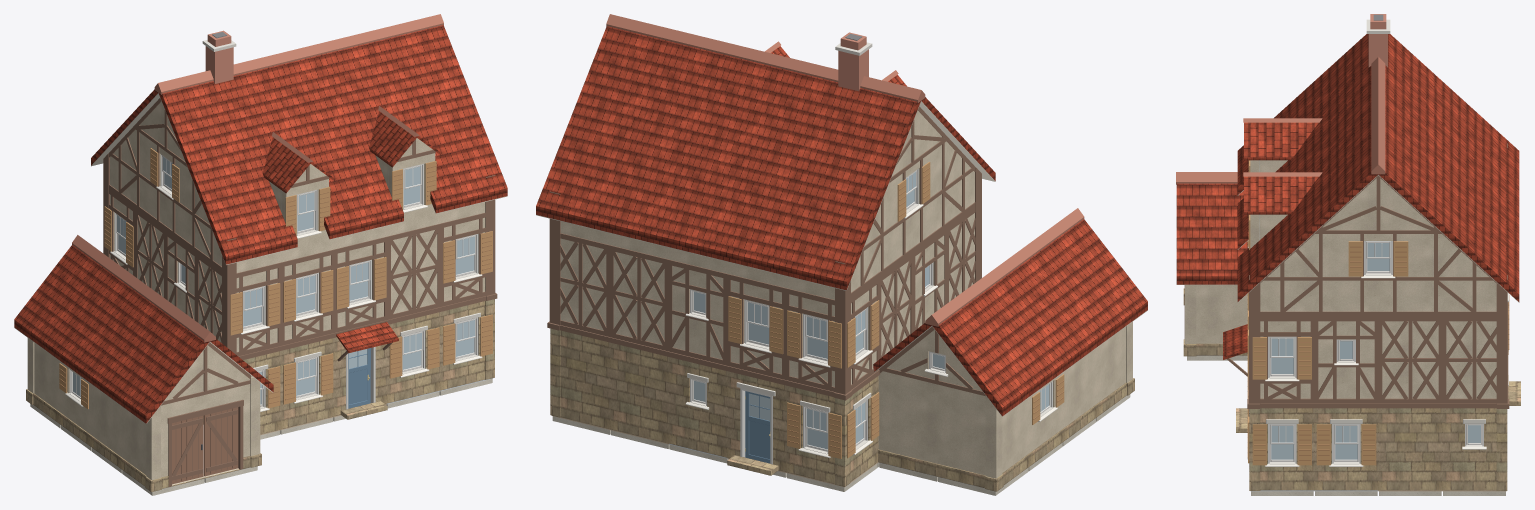
The model's file is building_assembled.glb.
The picture shows the model from 3 angles, left to right: view 1: azimuth 30°, elevation 25°; view 2: azimuth 150°, elevation 25°; view 3: azimuth 270°, elevation 25°; orthographic projection. The views are drawn at different scales.
Parts seen in each view (by area): view 1: building_roof_tiles, building_render, building_timber, building_stone2, building_shutter, building_glass, building_ridge, building_plaster, building_door_wood, building_sash, building_shutter_dark, building_frame (+3 smaller); view 2: building_roof_tiles, building_render, building_timber, building_stone2, building_ridge, building_shutter, building_glass, building_plaster, building_trim, building_sash, building_frame, building_shutter_dark (+2 smaller); view 3: building_roof_tiles, building_render, building_timber, building_stone2, building_shutter, building_glass, building_ridge, building_plaster, building_sash, building_trim, building_shutter_dark, building_frame (+1 smaller).
Boxes of the visible parts, bbox=[...] form: building_roof_tiles: bbox=[14, 25, 507, 423]; building_render: bbox=[27, 101, 485, 485]; building_timber: bbox=[103, 98, 497, 486]; building_stone2: bbox=[26, 299, 494, 491]; building_shutter: bbox=[59, 148, 492, 409]; building_glass: bbox=[73, 157, 474, 404]; building_ridge: bbox=[72, 14, 443, 342]; building_plaster: bbox=[14, 93, 507, 495]; building_door_wood: bbox=[172, 407, 238, 484]; building_sash: bbox=[71, 155, 476, 406]; building_shutter_dark: bbox=[59, 153, 491, 404]; building_frame: bbox=[69, 154, 478, 409]; building_roof_tiles: bbox=[536, 26, 1147, 416]; building_render: bbox=[560, 110, 1132, 478]; building_timber: bbox=[547, 106, 985, 400]; building_stone2: bbox=[550, 328, 1134, 491]; building_ridge: bbox=[606, 14, 1084, 326]; building_shutter: bbox=[728, 162, 1064, 458]; building_glass: bbox=[694, 172, 1049, 449]; building_plaster: bbox=[536, 101, 1147, 495]; building_trim: bbox=[685, 42, 1057, 457]; building_sash: bbox=[692, 170, 1050, 451]; building_frame: bbox=[690, 169, 1052, 464]; building_shutter_dark: bbox=[729, 167, 1063, 454]; building_roof_tiles: bbox=[1176, 34, 1519, 359]; building_render: bbox=[1185, 160, 1496, 398]; building_timber: bbox=[1184, 143, 1509, 408]; building_stone2: bbox=[1183, 288, 1520, 490]; building_shutter: bbox=[1248, 160, 1508, 465]; building_glass: bbox=[1271, 243, 1480, 459]; building_ridge: bbox=[1176, 57, 1385, 184]; building_plaster: bbox=[1177, 160, 1519, 495]; building_sash: bbox=[1270, 241, 1482, 461]; building_trim: bbox=[1247, 19, 1508, 466]; building_shutter_dark: bbox=[1247, 160, 1509, 460]; building_frame: bbox=[1268, 241, 1483, 463].
Size of the model in its own units: 14.72 by 12.77 by 10.77.
Materials: 21 (4 with a texture image).
